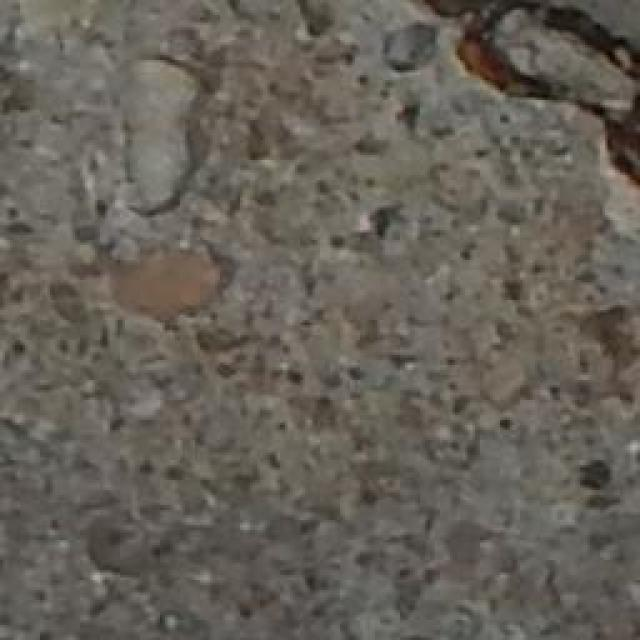concrete-crack: (404, 0, 640, 203)
